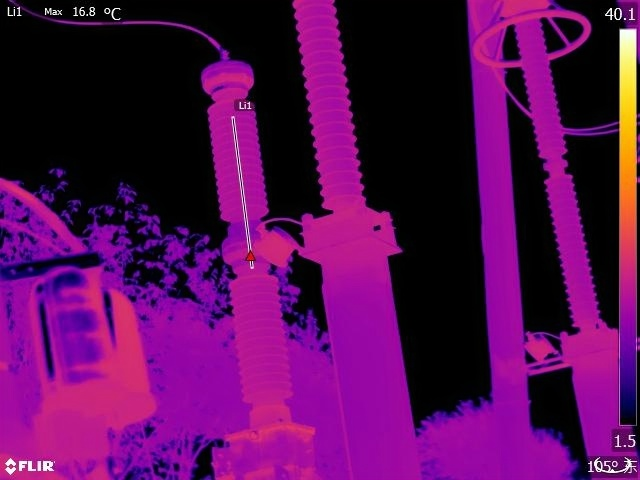lightning arrester: (468, 2, 615, 346), (283, 1, 388, 222)
potential transformer: (193, 48, 324, 468)
